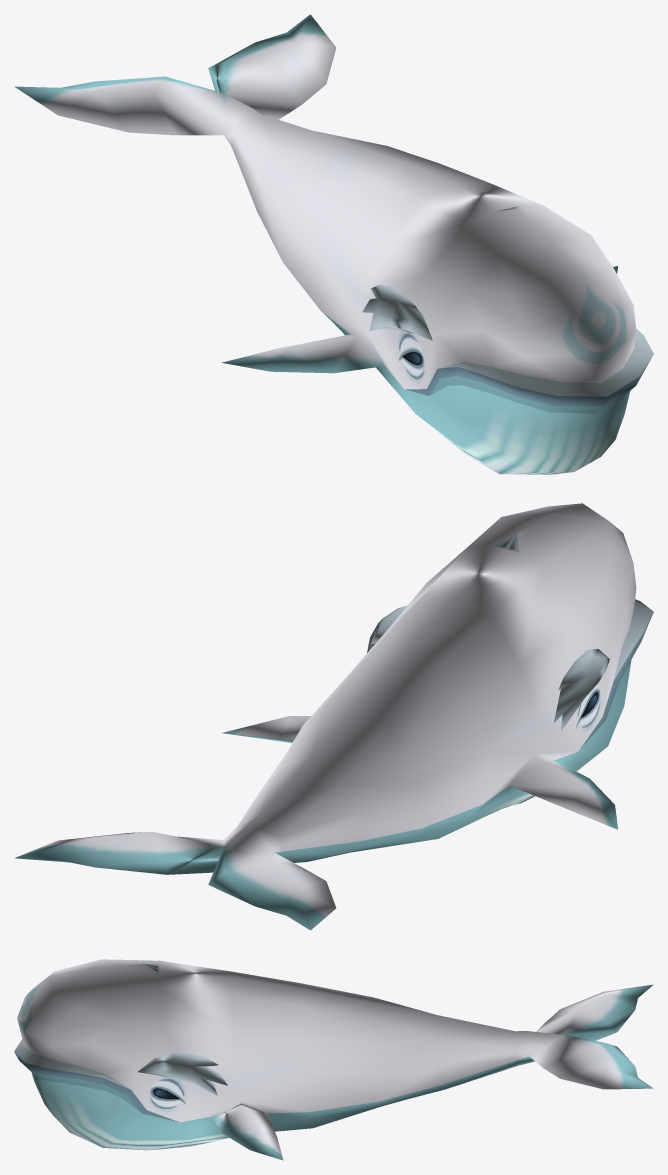
File: oshusWhale.fbx
3 renders of one model, top to bottom at view 1: azimuth 30°, elevation 25°; view 2: azimuth 150°, elevation 25°; view 3: azimuth 270°, elevation 25°, orthographic. The views are drawn at different scales.
Parts seen in each view (by area): view 1: Oshus__Whale_:polygon2; view 2: Oshus__Whale_:polygon2; view 3: Oshus__Whale_:polygon2.
Part boxes in pixels (<box>): Oshus__Whale_:polygon2: <box>14,14,653,474</box>; Oshus__Whale_:polygon2: <box>14,503,653,930</box>; Oshus__Whale_:polygon2: <box>14,959,653,1160</box>.
Size of the model in its own units: 9.31 by 5.48 by 18.07.
2 materials, 2 textured.
